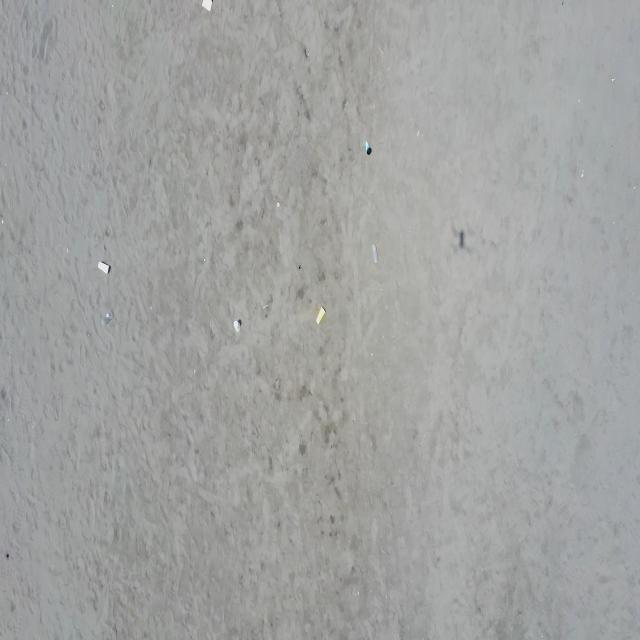take-away-containers: (201, 0, 213, 13)
takeaway-cup: (102, 310, 114, 327), (316, 306, 326, 326), (98, 260, 110, 275), (371, 243, 379, 265), (364, 140, 372, 156), (233, 319, 241, 333)
